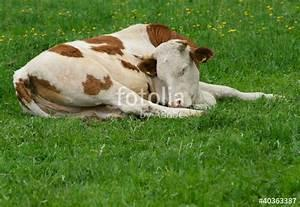cow: (12, 22, 286, 121)
